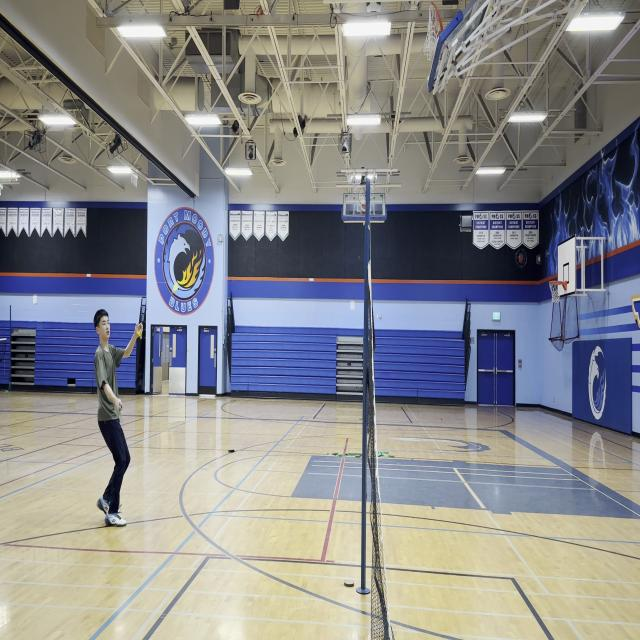shuttlecock: (172, 284, 178, 296)
